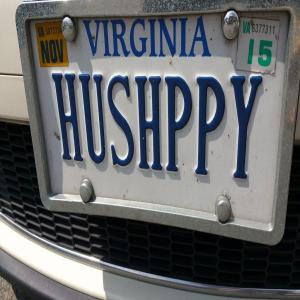Vehicle-registration-plate: (11, 9, 300, 275)
